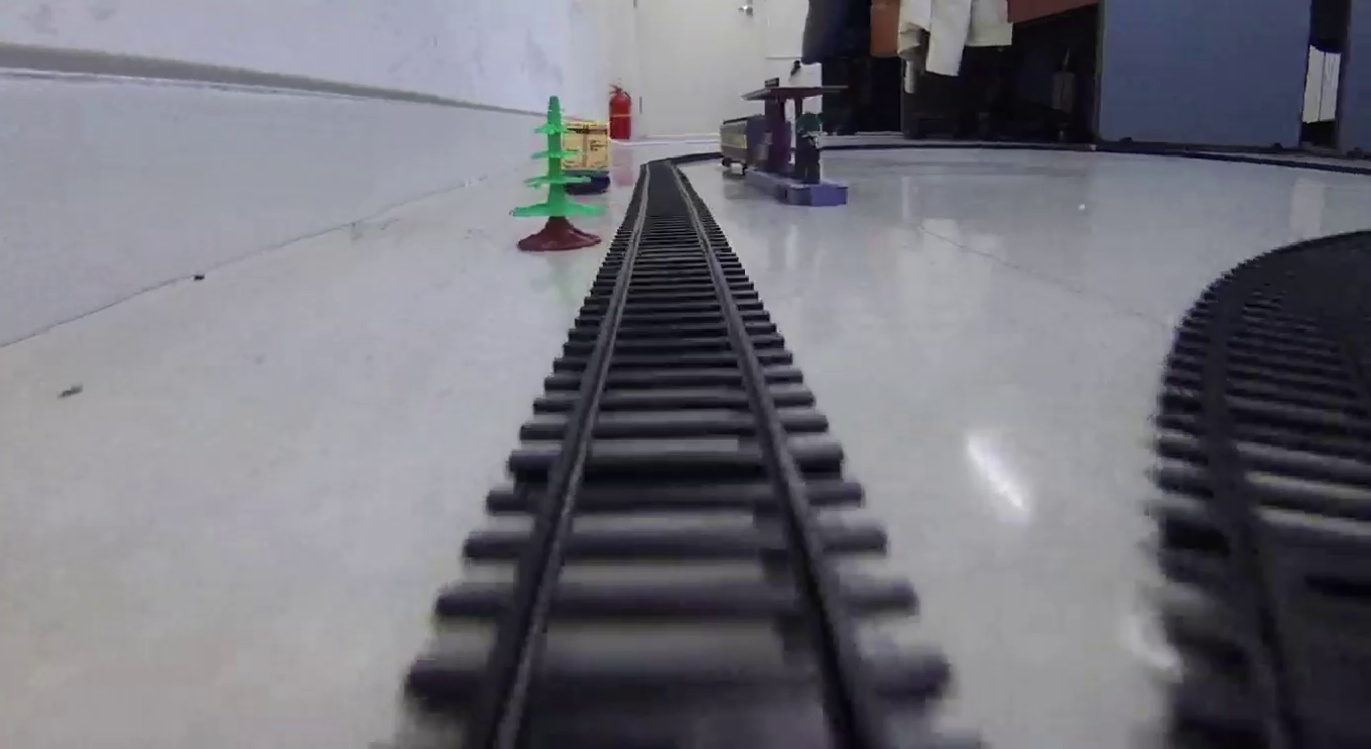tree: (506, 98, 606, 250)
